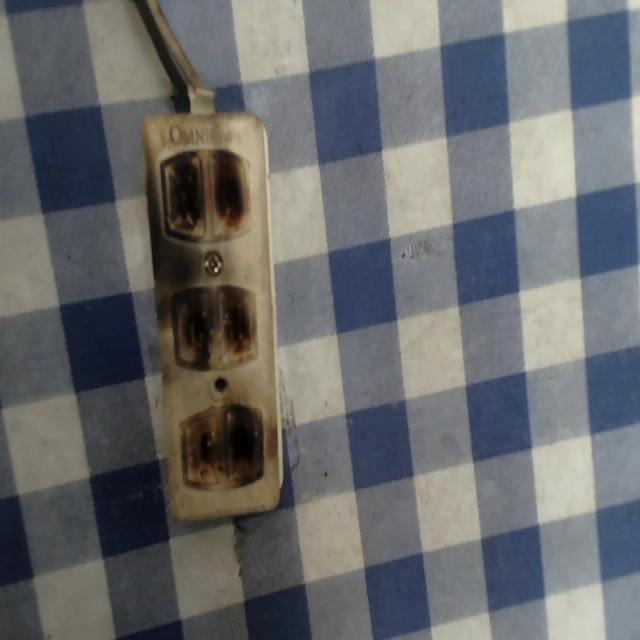-: (157, 150, 247, 246), (169, 284, 261, 369), (179, 401, 266, 488)
